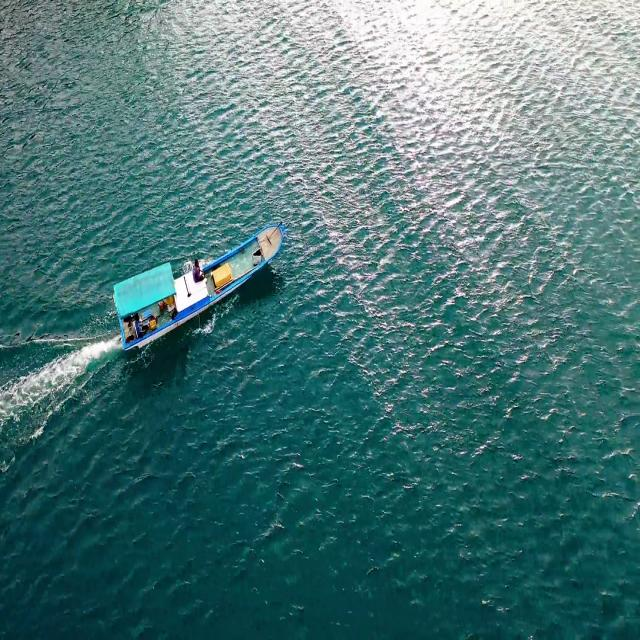ship: (105, 204, 292, 358)
